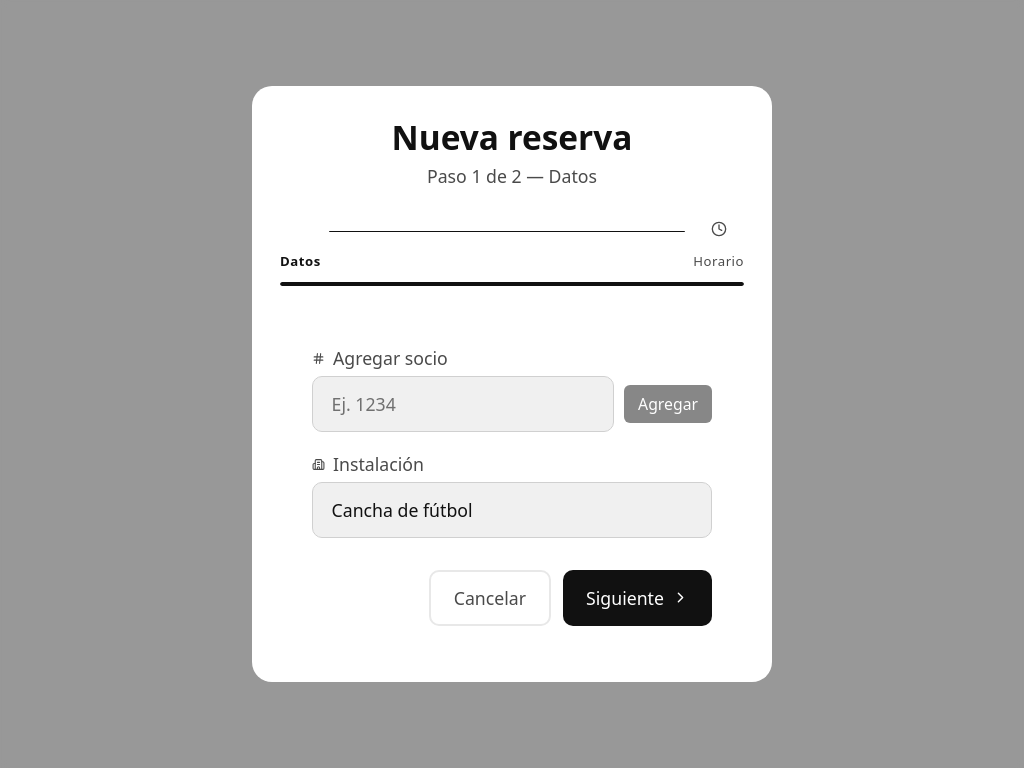
Scenario: CreateReservaForm › permite remover un socio de la lista
Type "1234" into the field with placeholder "Ej. 1234". click: {"x": 463, "y": 404}
box: x1=312 y1=376 x2=614 y2=432
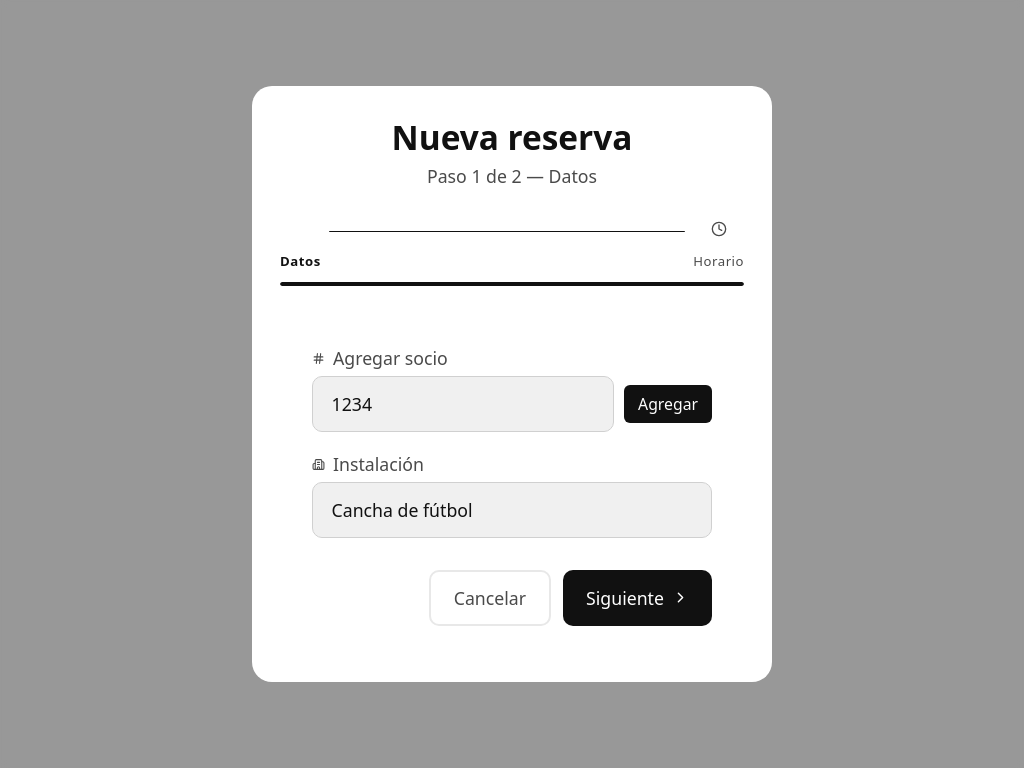
Click the button "Agregar". click: {"x": 668, "y": 404}
box: x1=624 y1=385 x2=712 y2=423
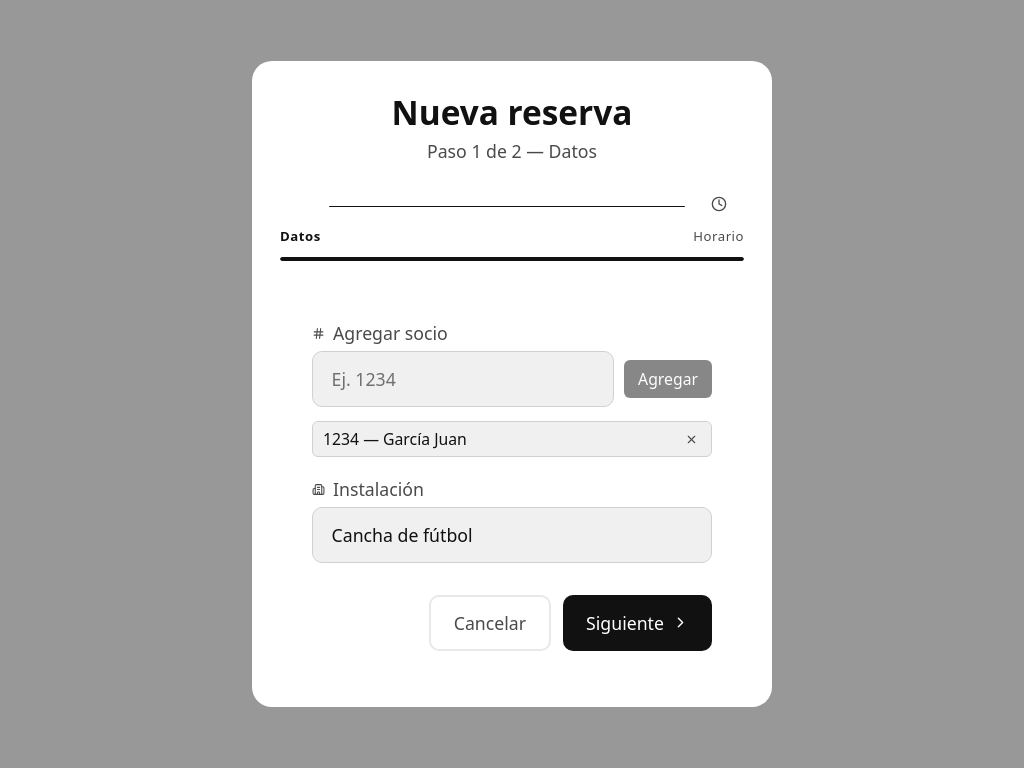
expect the text "1234 — García Juan" is shown: met, box x1=323 y1=428 x2=467 y2=450
Click the button named "quitar socio 1234". click: {"x": 691, "y": 439}
box: x1=675 y1=423 x2=707 y2=455
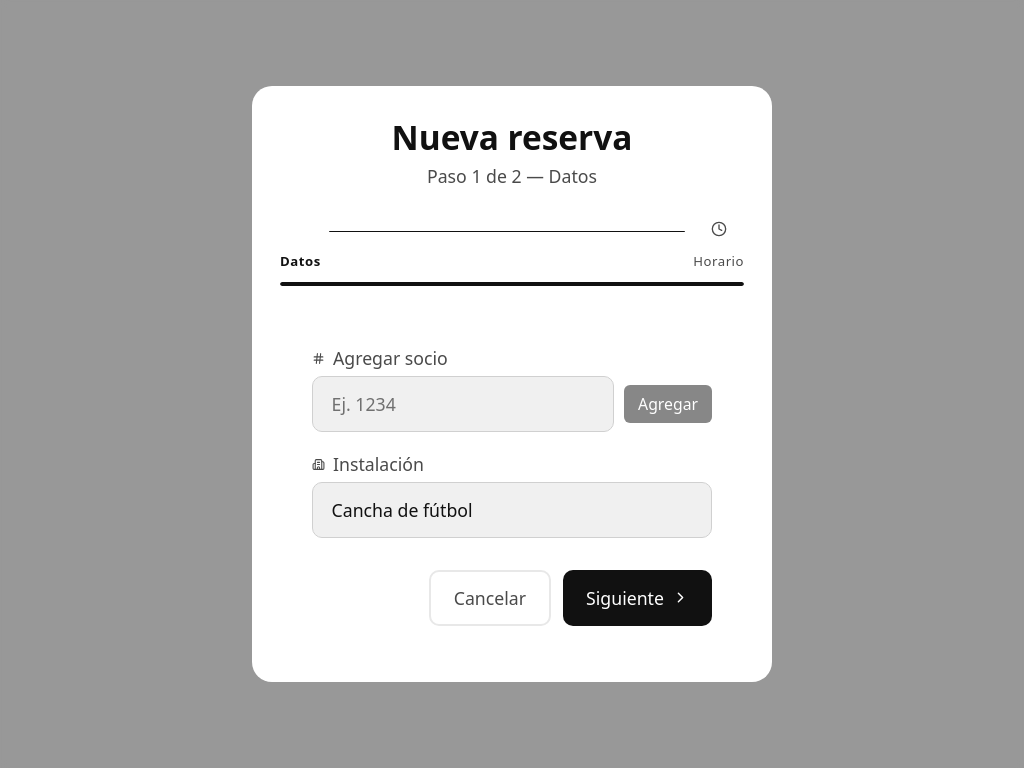
expect the text "1234 — García Juan" is gone: met
